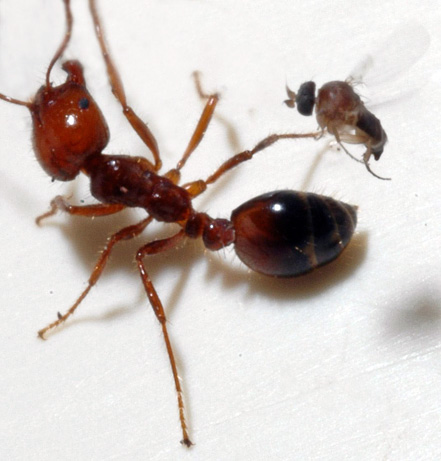phorid fly: (262, 28, 432, 186)
